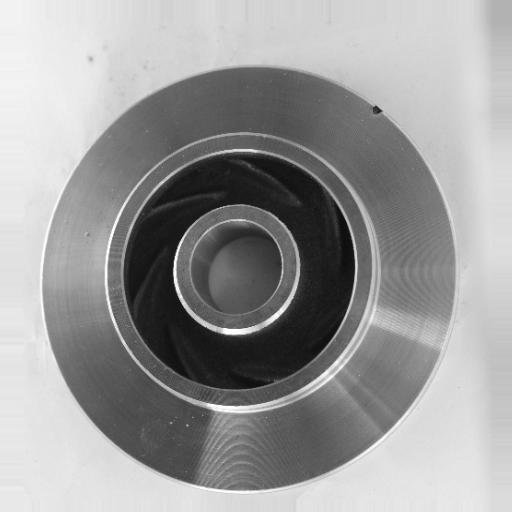crack: (363, 89, 390, 120)
unpolished_casting: (40, 63, 461, 498)
